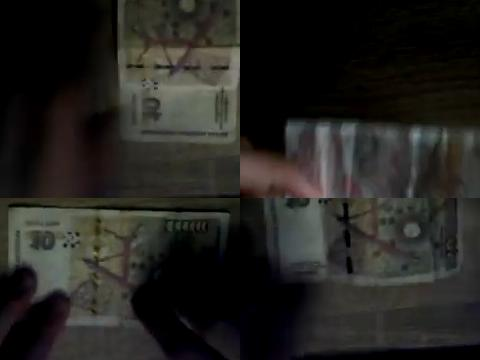10leva: (265, 198, 465, 286)
5leva: (286, 118, 480, 198)
